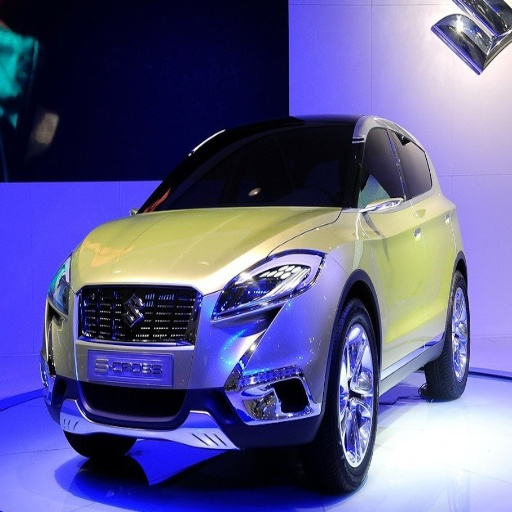front_bumper: (49, 284, 338, 445)
front_glass: (150, 128, 354, 210)
front_left_door: (358, 123, 422, 368)
front_right_light: (434, 20, 487, 64)
